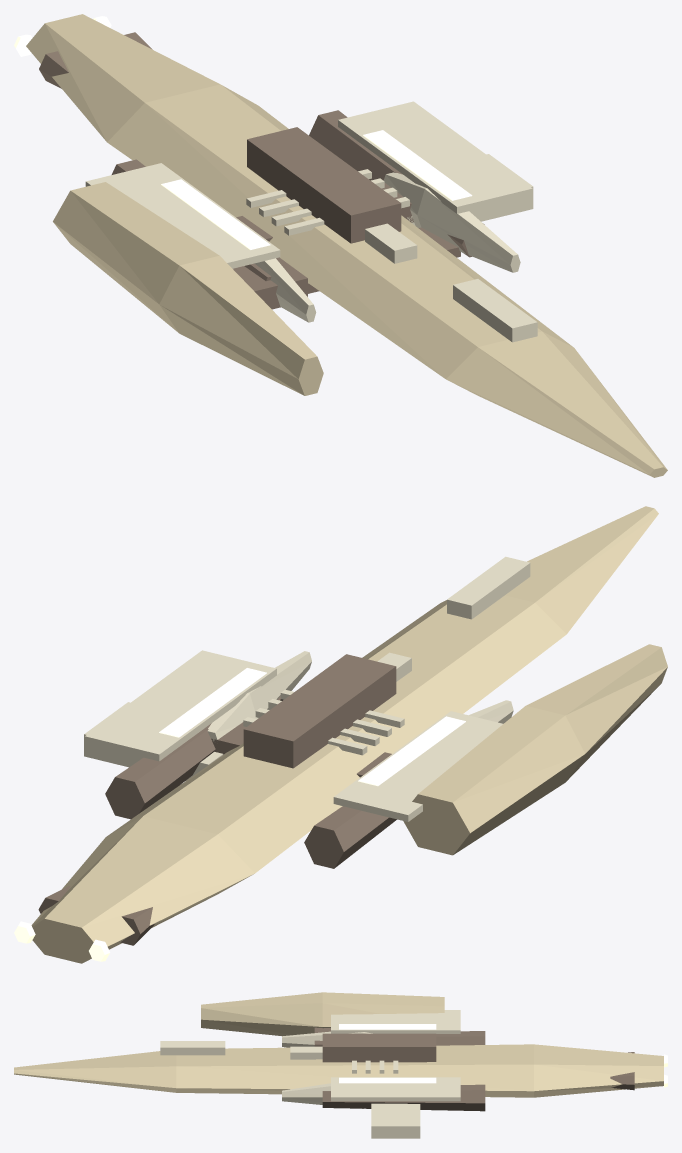
The picture shows the model from 3 angles, top to bottom: view 1: azimuth 30°, elevation 25°; view 2: azimuth 150°, elevation 25°; view 3: azimuth 270°, elevation 25°; orthographic projection. The views are drawn at different scales.
Size of the model in its own units: 6.18 by 1.22 by 15.3.
